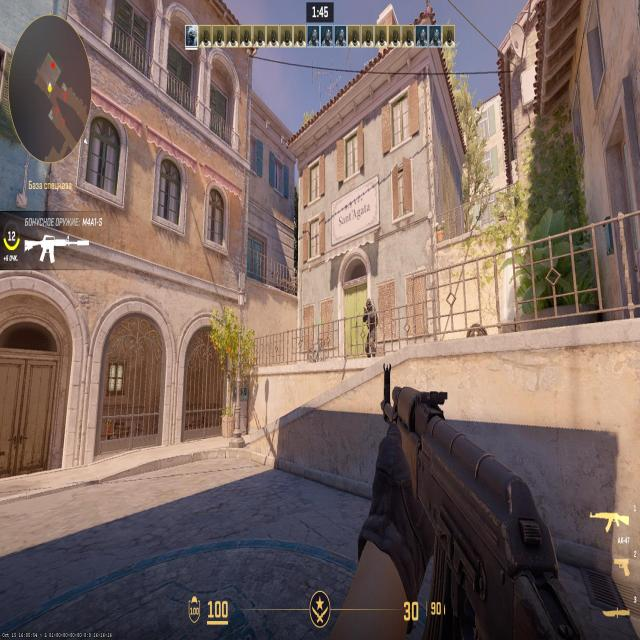CT: (364, 301, 375, 353)
CT_heat: (367, 302, 372, 312)
